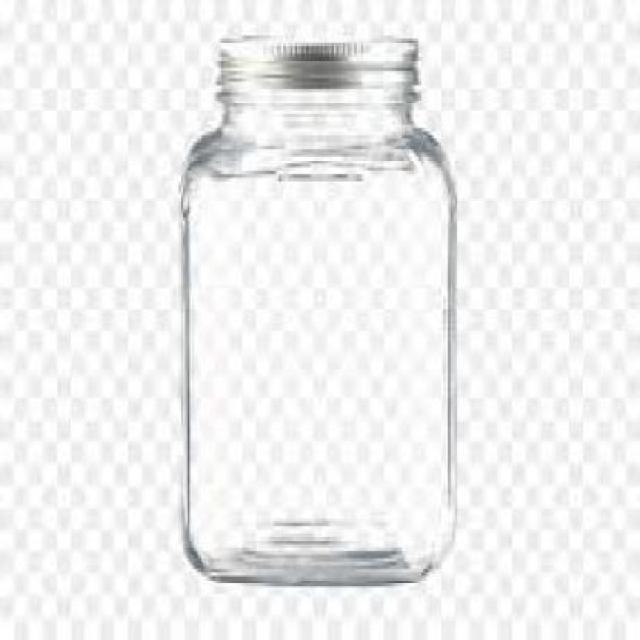kaca: (178, 92, 452, 583)
